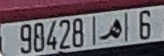2: (58, 19, 71, 49)
4: (46, 19, 59, 51)
6: (138, 9, 152, 40)
8: (71, 18, 85, 48), (33, 22, 45, 53)
9: (19, 23, 32, 54)
h: (98, 18, 123, 41)
